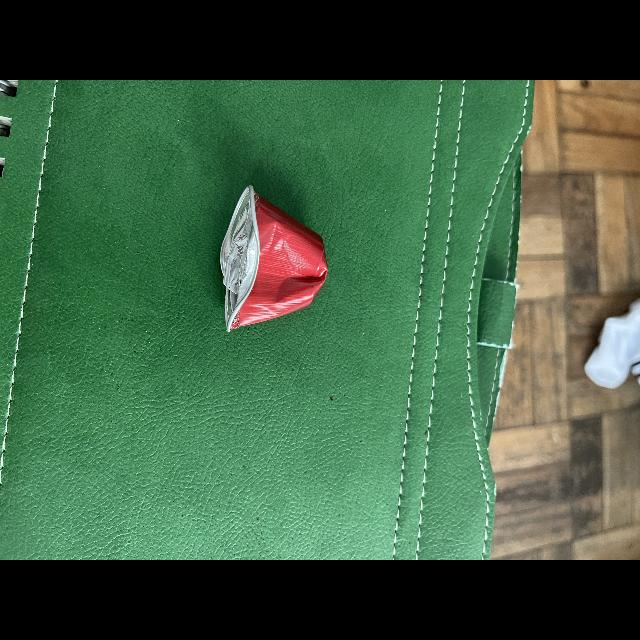damaged_capsule: (204, 186, 340, 336)
